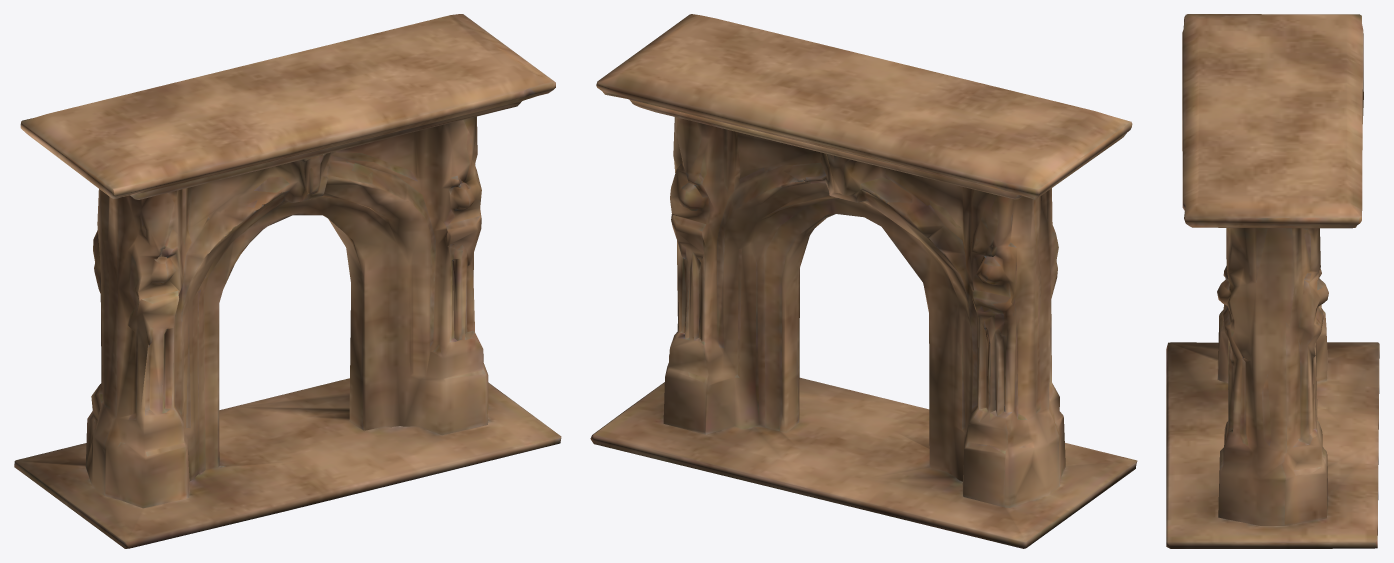
File: ornate-sandstone-fireplace-v002.glb
3 renders of one model, left to right at view 1: azimuth 30°, elevation 25°; view 2: azimuth 150°, elevation 25°; view 3: azimuth 270°, elevation 25°, orthographic. The views are drawn at different scales.
Visible parts, largest first — view 1: ornate-sandstone-fireplace; view 2: ornate-sandstone-fireplace; view 3: ornate-sandstone-fireplace.
Part boxes in pixels (x1=…): ornate-sandstone-fireplace: x1=14, y1=14, x2=561, y2=548; ornate-sandstone-fireplace: x1=590, y1=14, x2=1137, y2=548; ornate-sandstone-fireplace: x1=1166, y1=14, x2=1379, y2=548.
Size of the model in its own units: 2.46 by 1.96 by 1.09.
Materials: 1 (1 with a texture image).
